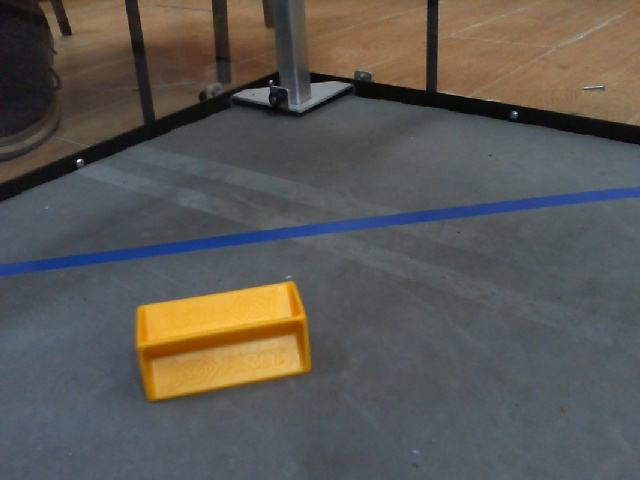YellowSample: (130, 273, 312, 411)
